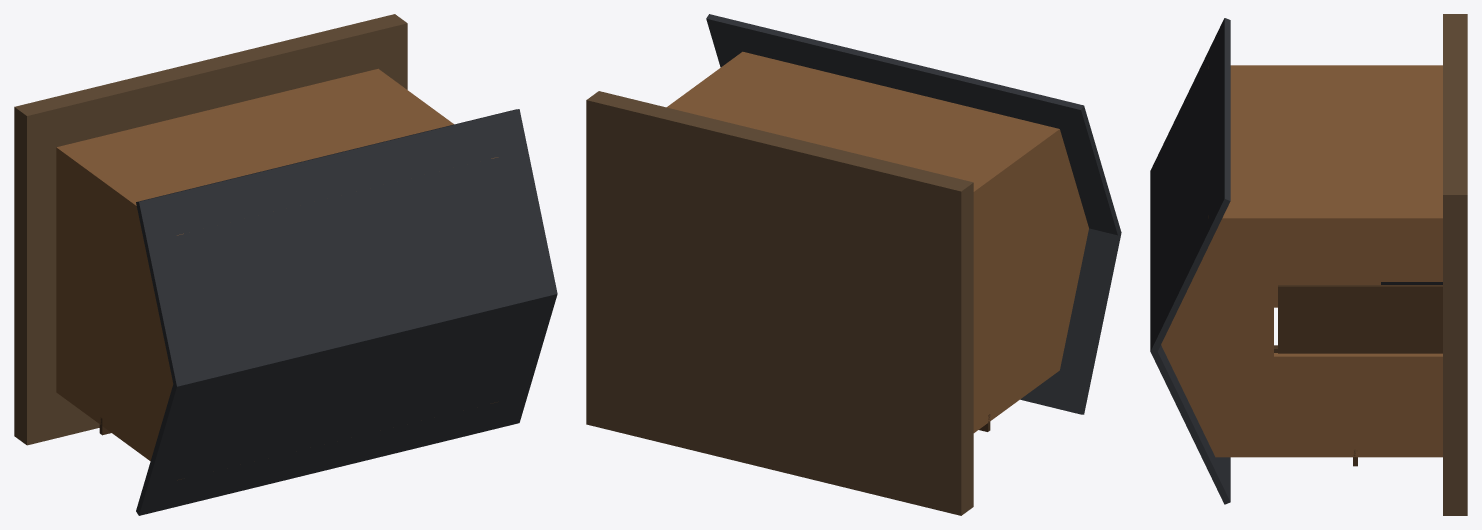
Rendered from FOH_Huette.obj.
The picture shows the model from 3 angles, left to right: view 1: azimuth 30°, elevation 25°; view 2: azimuth 150°, elevation 25°; view 3: azimuth 270°, elevation 25°; orthographic projection. The views are drawn at different scales.
Visible parts, largest first — view 1: Dach_hinten, Dach_vorne, Podest, Wand_links, Wand_hinten; view 2: Podest, Wand_hinten, Wand_links, Dach_hinten, Dach_vorne, Giebel; view 3: Wand_hinten, Wand_rechts_a, Dach_hinten, Wand_rechts_b, Podest, Tuer, Wand_rechts_tuer, Giebel, Dach_vorne, Wand_vorne_unten, Wand_links, Wand_vorne_oben.
Boxes of the visible parts, x1,y1,x2,y2 form: Dach_hinten: (136, 109, 557, 386); Dach_vorne: (136, 294, 557, 515); Podest: (14, 14, 407, 445); Wand_links: (56, 145, 173, 455); Wand_hinten: (56, 68, 453, 214); Podest: (586, 91, 973, 515); Wand_hinten: (666, 51, 1061, 199); Wand_links: (973, 127, 1063, 432); Dach_hinten: (706, 14, 1121, 236); Dach_vorne: (1020, 228, 1121, 414); Giebel: (1063, 141, 1088, 352); Wand_hinten: (1219, 65, 1442, 225); Wand_rechts_a: (1208, 353, 1442, 457); Dach_hinten: (1150, 18, 1230, 353); Wand_rechts_b: (1208, 215, 1442, 281); Podest: (1443, 14, 1467, 515); Tuer: (1278, 285, 1442, 353); Wand_rechts_tuer: (1208, 282, 1273, 356); Giebel: (1161, 66, 1208, 441); Dach_vorne: (1150, 345, 1230, 504); Wand_vorne_unten: (1356, 449, 1442, 457); Wand_links: (1231, 65, 1442, 307); Wand_vorne_oben: (1212, 449, 1273, 457).
Bounding box in the file's own units: 5.2 × 4.3 × 3.85.
